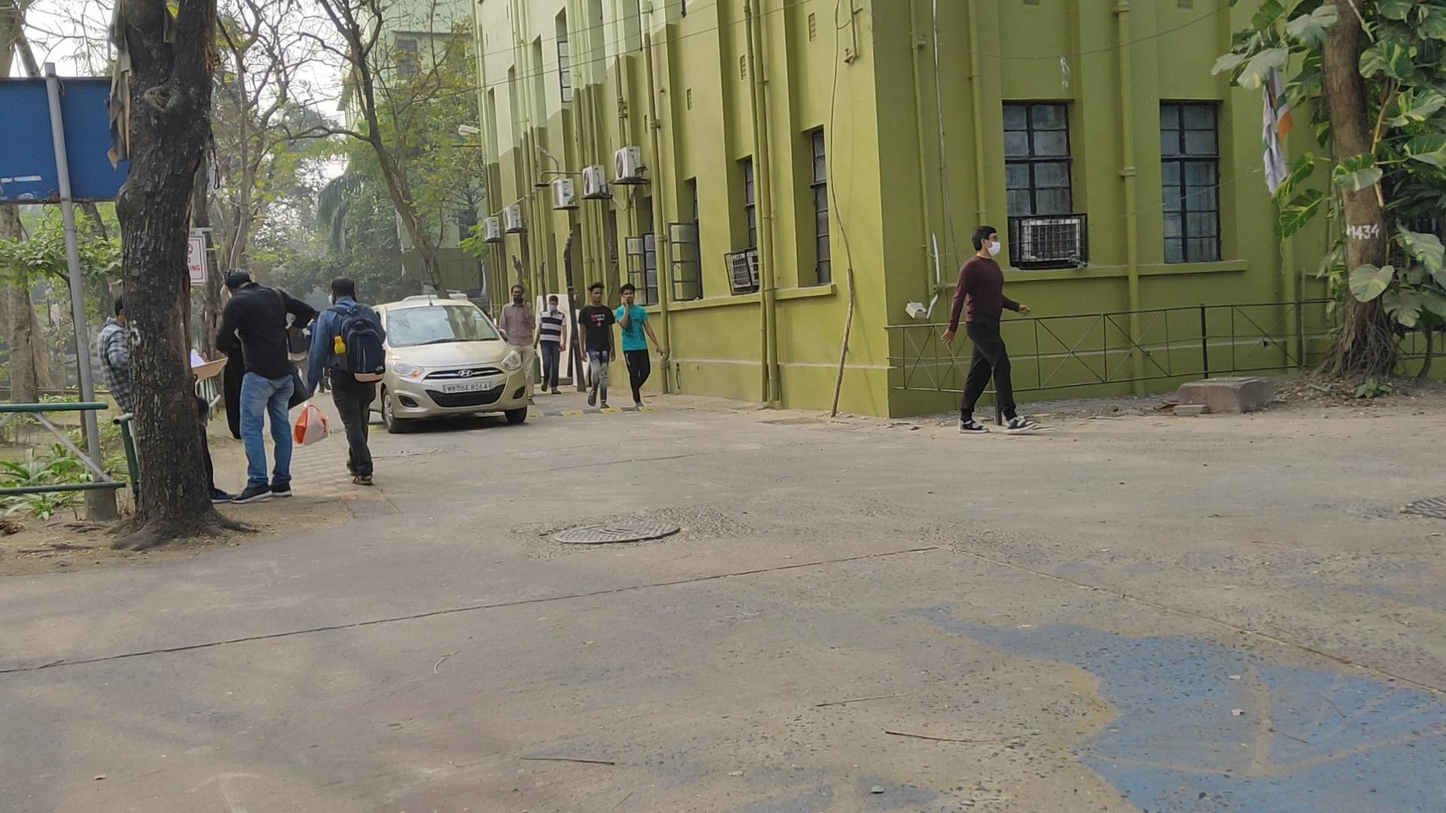car: (362, 297, 528, 434)
